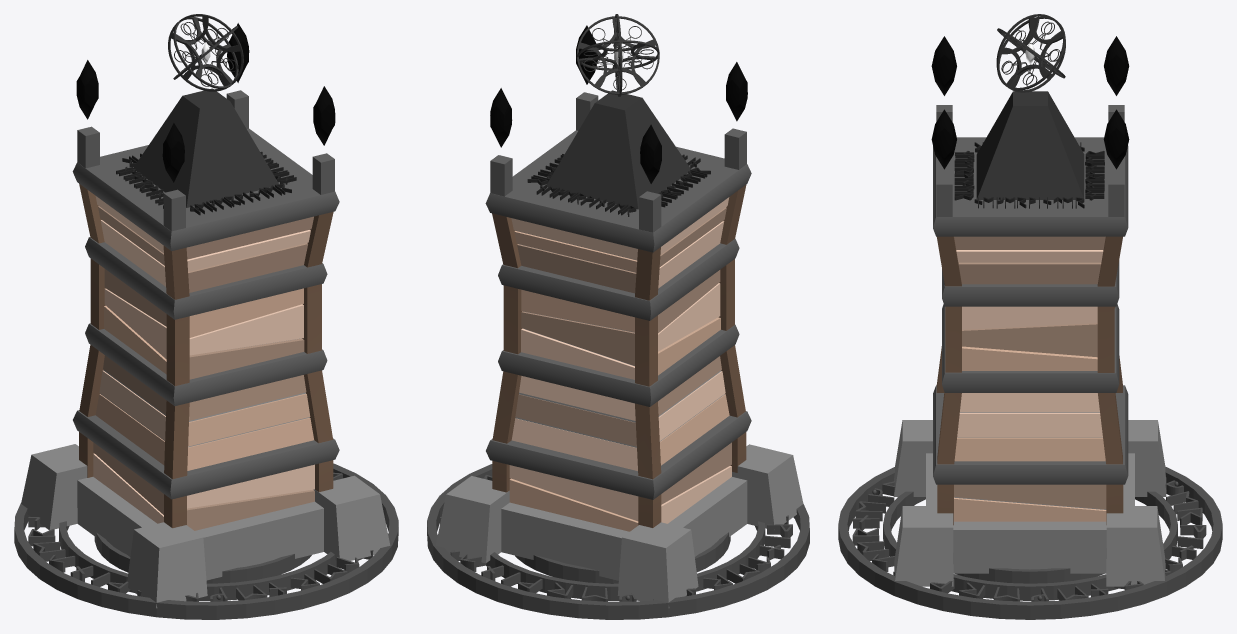
File: MagicTower1.fbx
The picture shows the model from 3 angles, left to right: view 1: azimuth 30°, elevation 25°; view 2: azimuth 150°, elevation 25°; view 3: azimuth 270°, elevation 25°; orthographic projection.
Visible parts, largest first — view 1: polySurface629, polySurface628, polySurface630; view 2: polySurface629, polySurface628, polySurface630; view 3: polySurface629, polySurface628, polySurface630.
Boxes of the visible parts, <box> form: polySurface629: <box>21,23,390,608</box>; polySurface628: <box>14,463,398,619</box>; polySurface630: <box>168,14,243,91</box>; polySurface629: <box>436,25,803,608</box>; polySurface628: <box>427,464,809,619</box>; polySurface630: <box>576,14,659,96</box>; polySurface629: <box>894,36,1166,586</box>; polySurface628: <box>838,466,1222,619</box>; polySurface630: <box>996,14,1065,92</box>.
Bounding box in the file's own units: 1.83 × 2.74 × 1.83.
